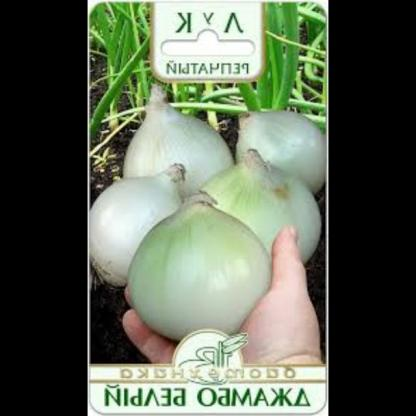onion: (128, 190, 281, 341), (187, 154, 321, 269), (89, 155, 200, 288), (104, 85, 234, 196), (214, 93, 313, 180)
